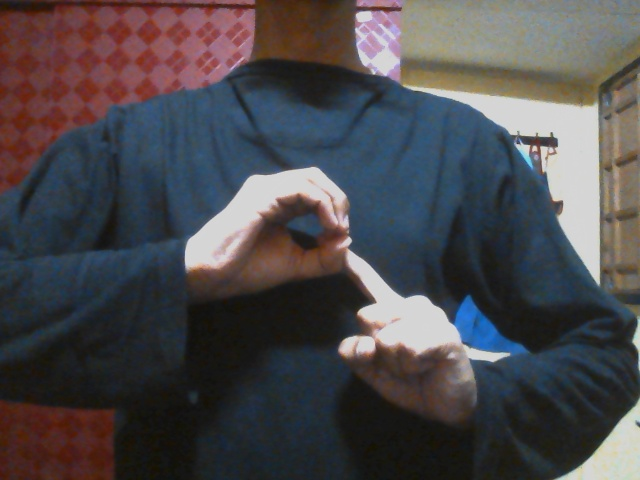Q: (194, 161, 464, 431)
